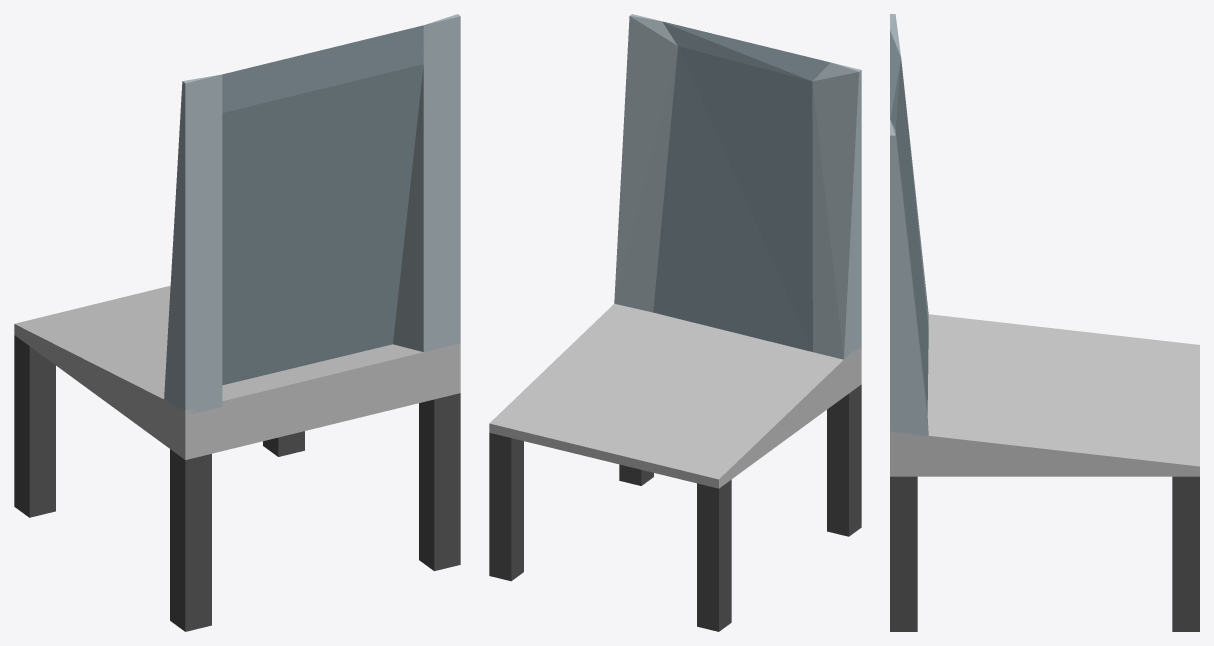
3 views of the same model, side by side, from view 1: azimuth 30°, elevation 25°; view 2: azimuth 150°, elevation 25°; view 3: azimuth 270°, elevation 25° (orthographic). The views are drawn at different scales.
Visible parts, largest first — view 1: group1689365688, group1910128153, group607223091, group178814382, group1676747274, group1546392550, group1049402197, group1899120643; view 2: group1689365688, group1910128153, group178814382, group607223091, group1049402197, group1899120643, group1676747274; view 3: group1910128153, group607223091, group1899120643, group1546392550, group1689365688, group178814382.
Boxes of the visible parts, x1,y1,x2,y2 form: group1689365688: [222, 25, 425, 385]; group1910128153: [14, 285, 460, 459]; group607223091: [393, 14, 460, 351]; group178814382: [164, 74, 222, 414]; group1676747274: [170, 449, 211, 631]; group1546392550: [419, 393, 460, 571]; group1049402197: [14, 335, 55, 517]; group1899120643: [263, 431, 304, 456]; group1689365688: [653, 21, 830, 351]; group1910128153: [489, 303, 861, 488]; group178814382: [812, 62, 861, 359]; group607223091: [614, 14, 677, 312]; group1049402197: [697, 479, 731, 631]; group1899120643: [489, 433, 523, 581]; group1676747274: [827, 384, 861, 536]; group1910128153: [890, 314, 1199, 476]; group607223091: [890, 119, 928, 436]; group1899120643: [1172, 476, 1199, 631]; group1546392550: [890, 476, 917, 631]; group1689365688: [890, 31, 928, 413]; group178814382: [890, 14, 928, 327].
Bounding box in the file's own units: 0.52 × 0.99 × 0.56.
